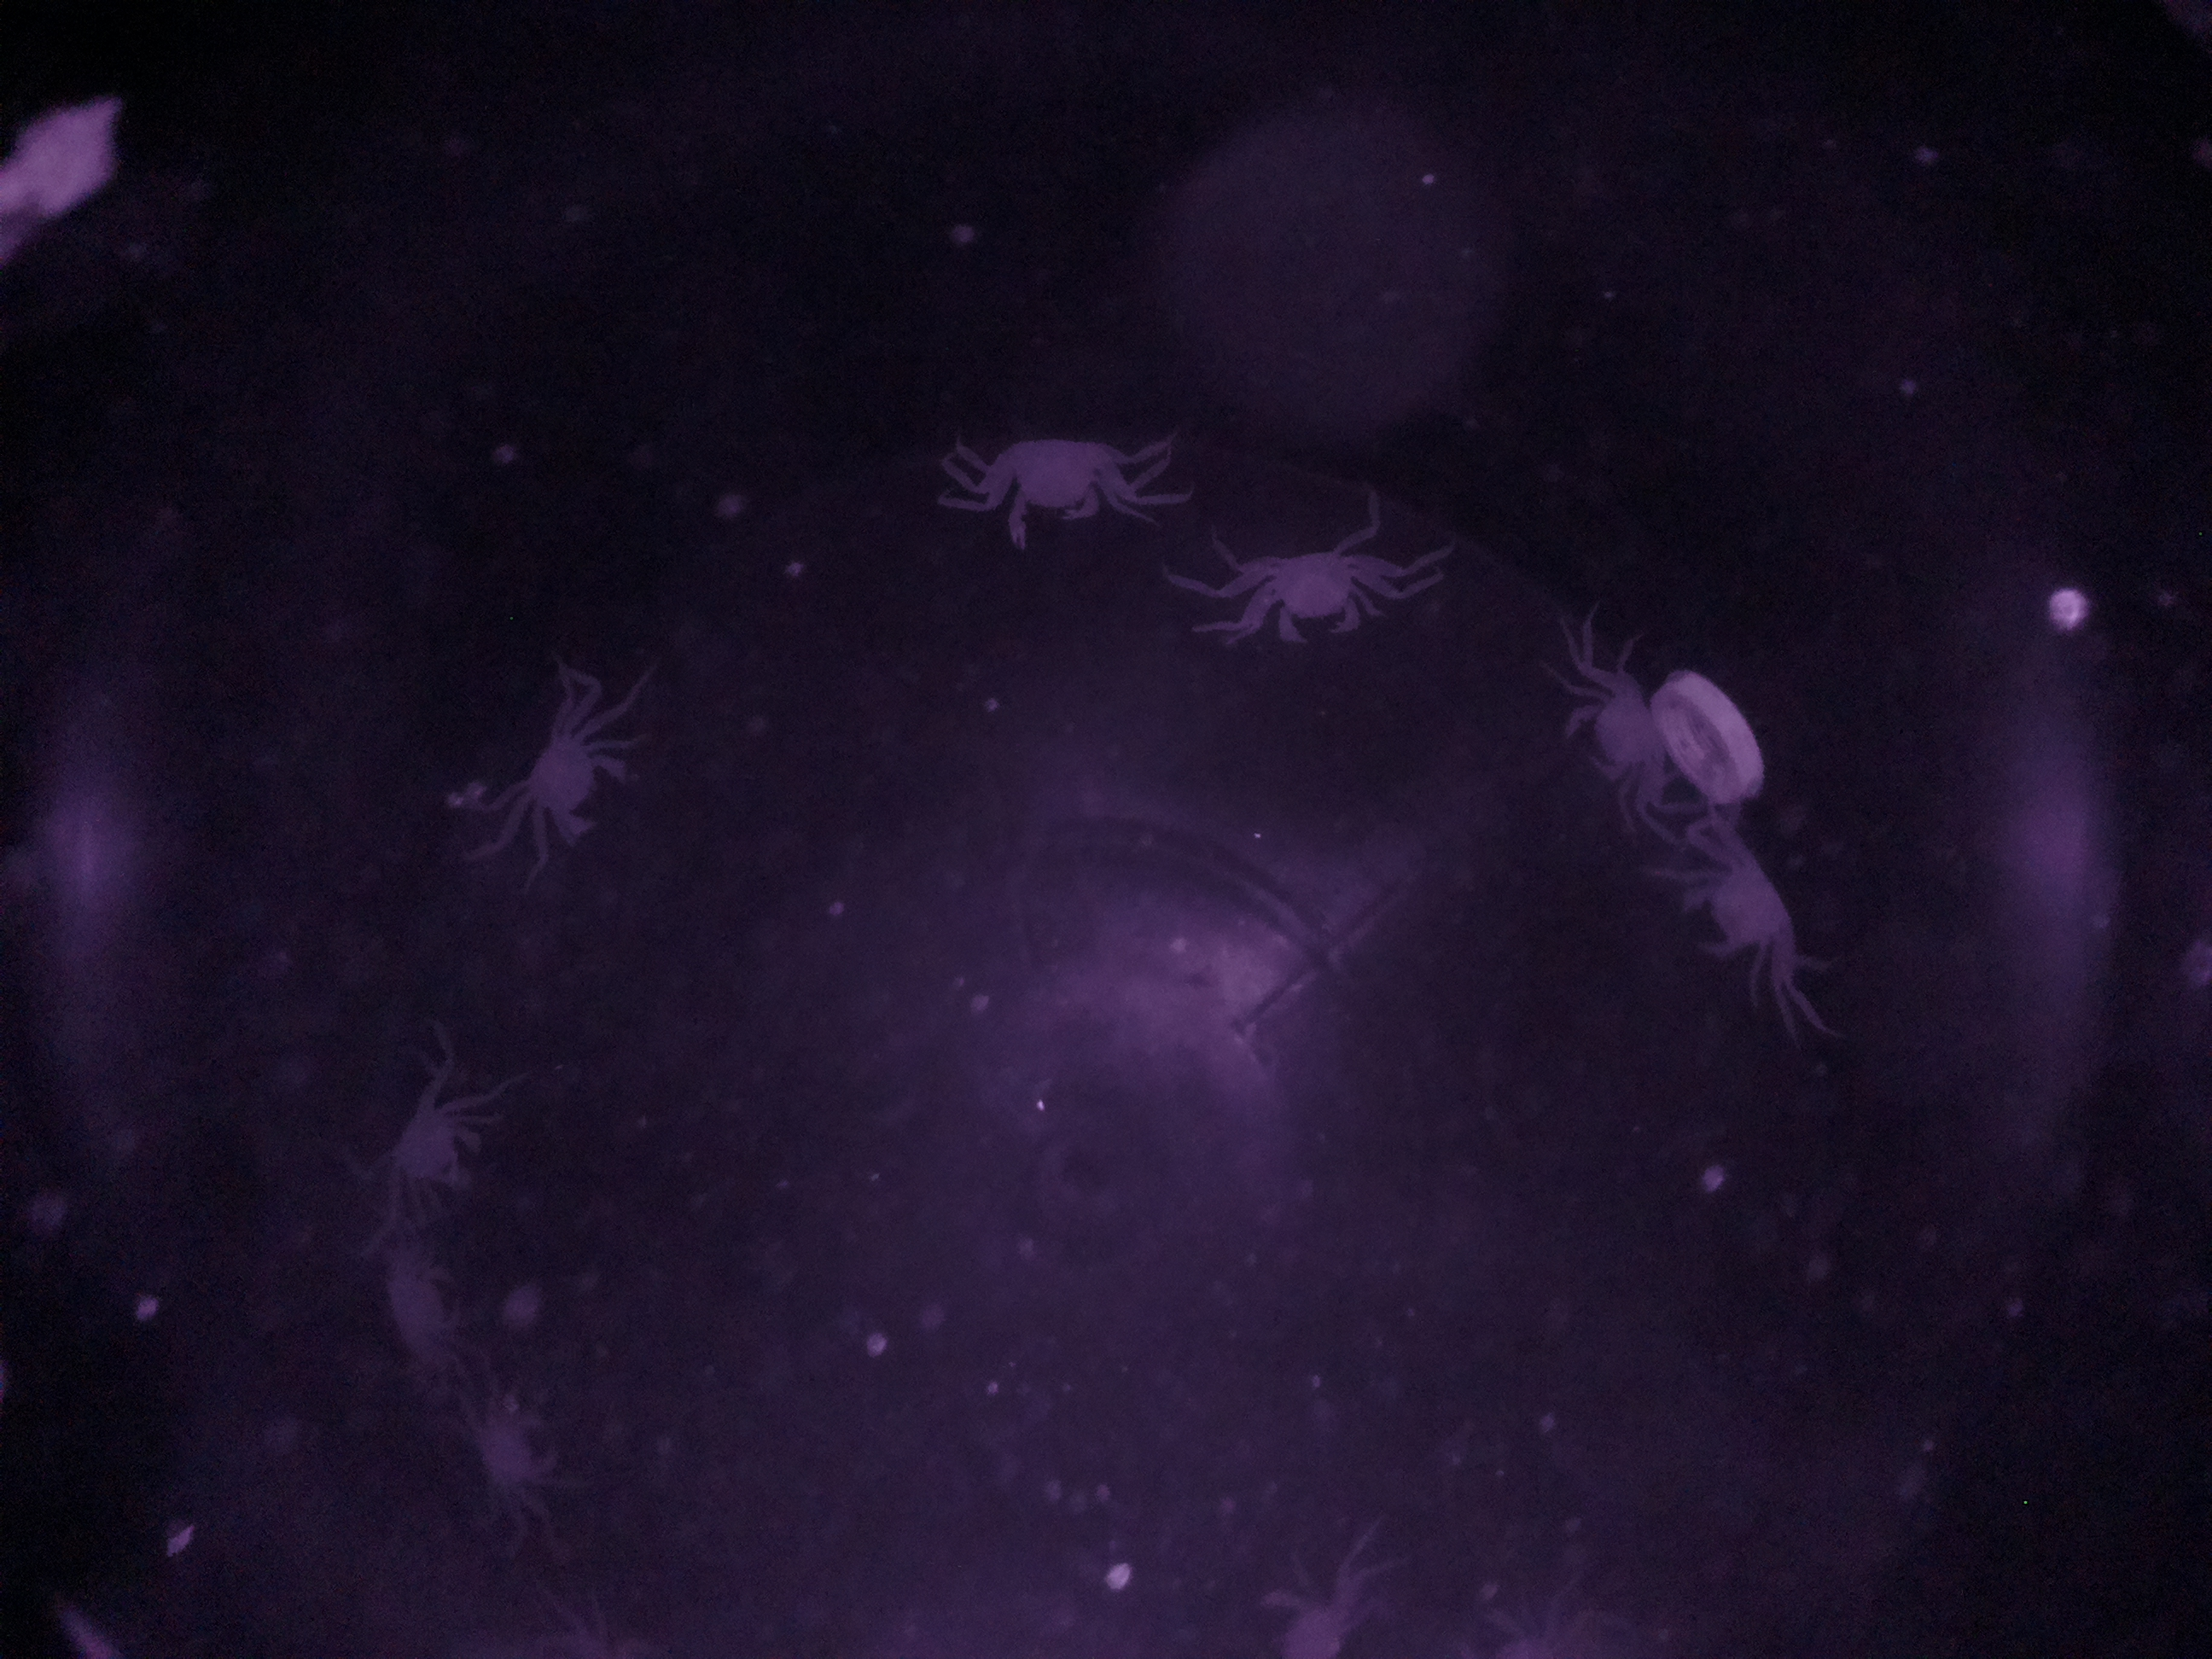Crab: (944, 415, 1146, 561), (1230, 530, 1428, 676), (500, 678, 651, 863), (1663, 829, 1825, 995), (1540, 655, 1681, 823), (437, 1389, 580, 1532)
